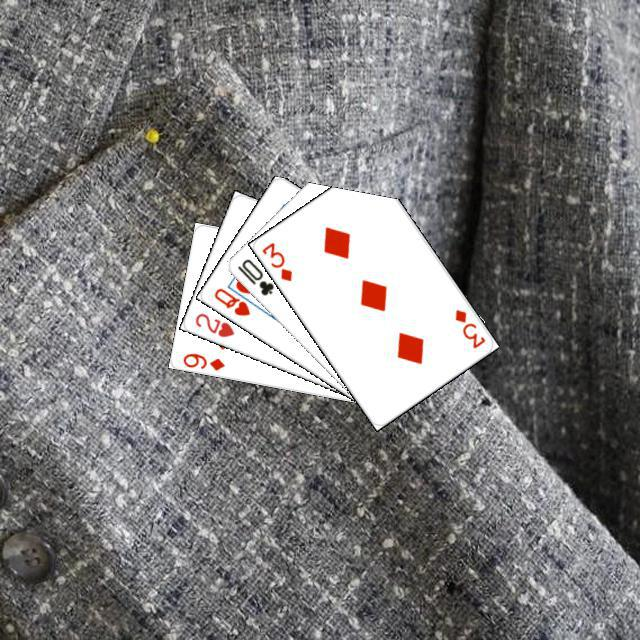10c: (232, 254, 275, 297)
2h: (190, 308, 236, 339)
3d: (257, 237, 294, 283), (450, 304, 487, 350)
9d: (178, 348, 226, 372)
Qh: (209, 283, 252, 318)
